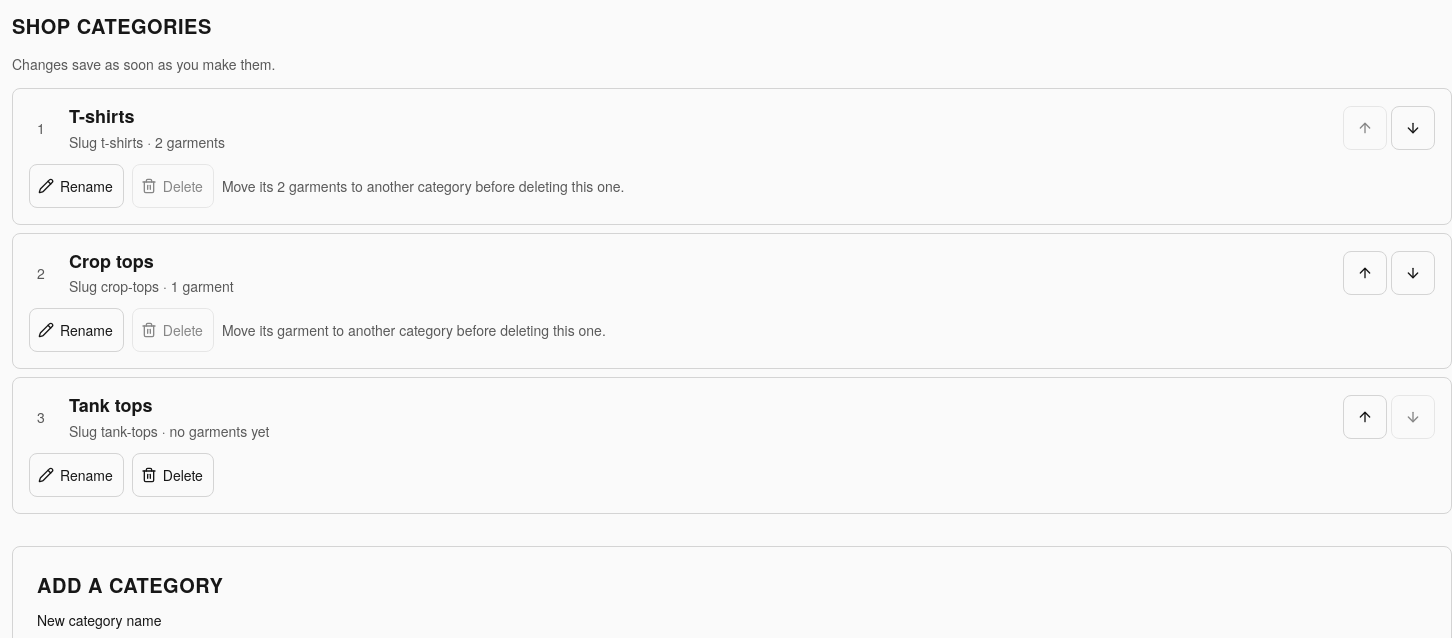
Test: CategoryManager › deleting › puts the alert away and keeps focus on the page when a reload is asked for
The width and height of the screenshot is (1452, 638).
What coordinates should you click on to do the following:
click the button named "Delete Tank tops"
I would click on:
 (173, 474)
Its box is [132, 452, 214, 496].
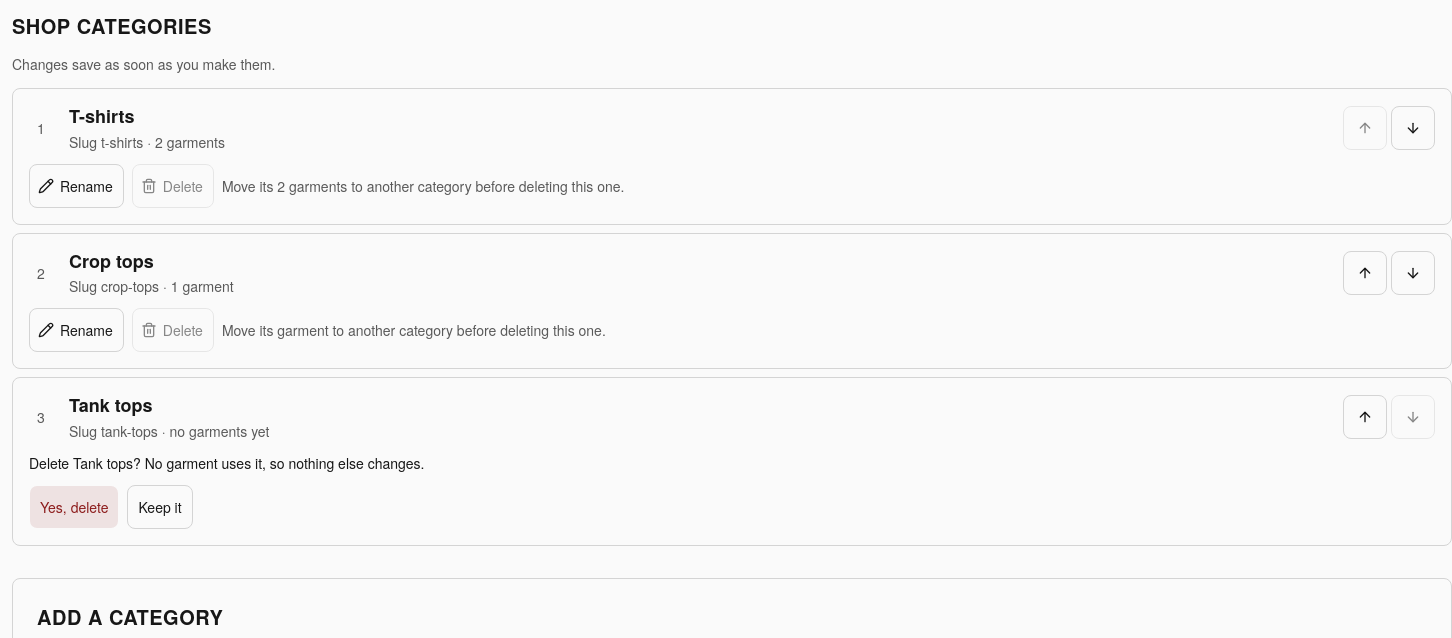
What coordinates should you click on to do the following:
click the button named "Yes, delete Tank tops"
I would click on:
 (74, 506)
Its box is [29, 484, 119, 528].
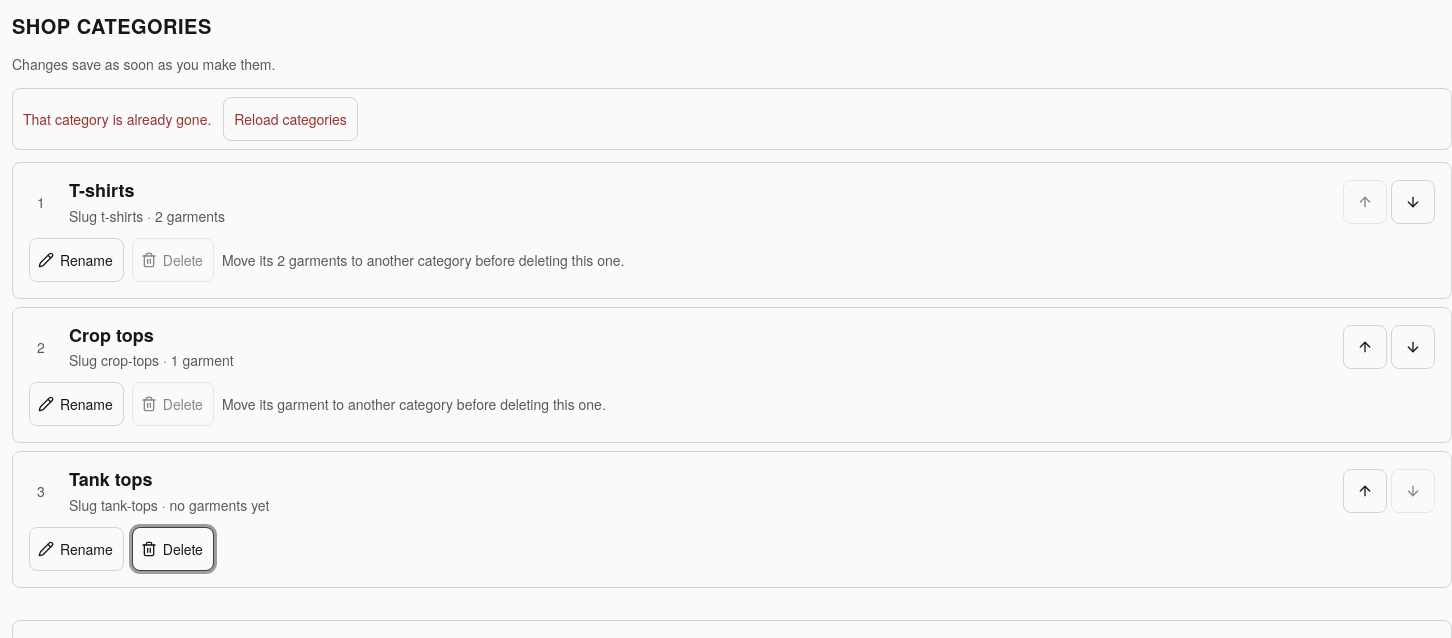
What coordinates should you click on to do the following:
click the button "Reload categories"
I would click on:
 (291, 119)
Its box is [223, 97, 358, 141].
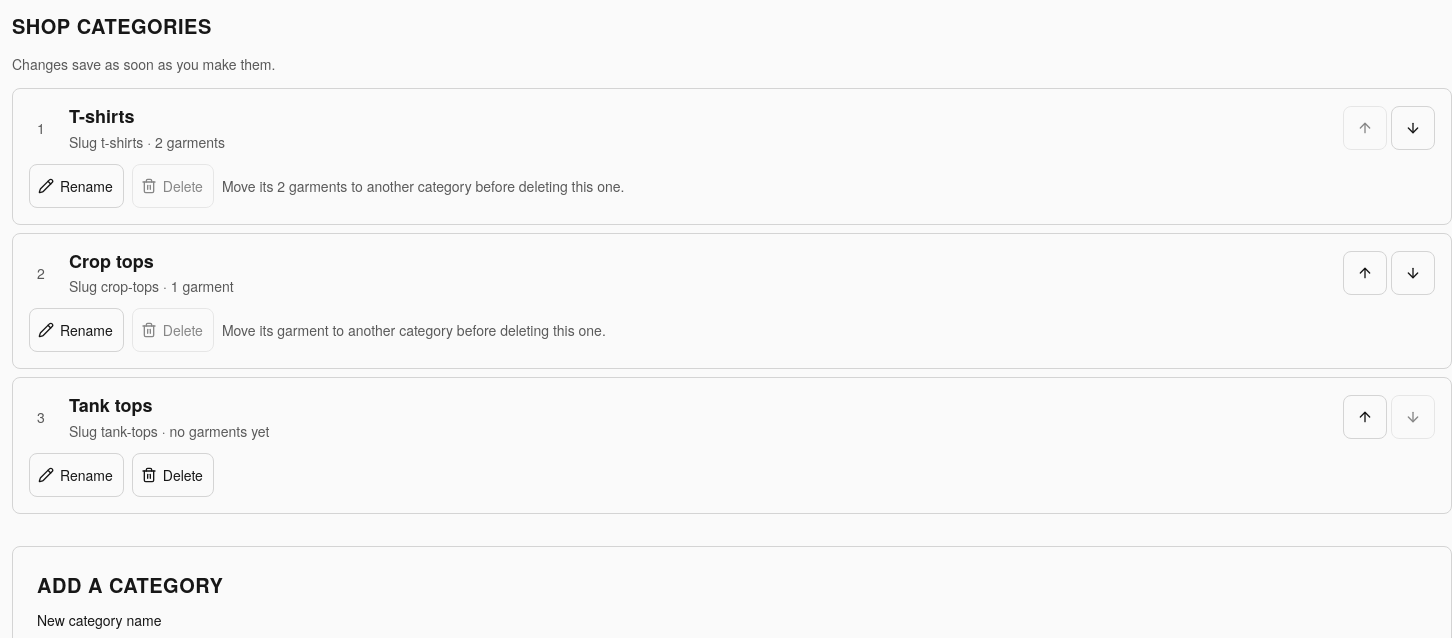
Check: the message "That category is already gone. Reload categories" is gone
